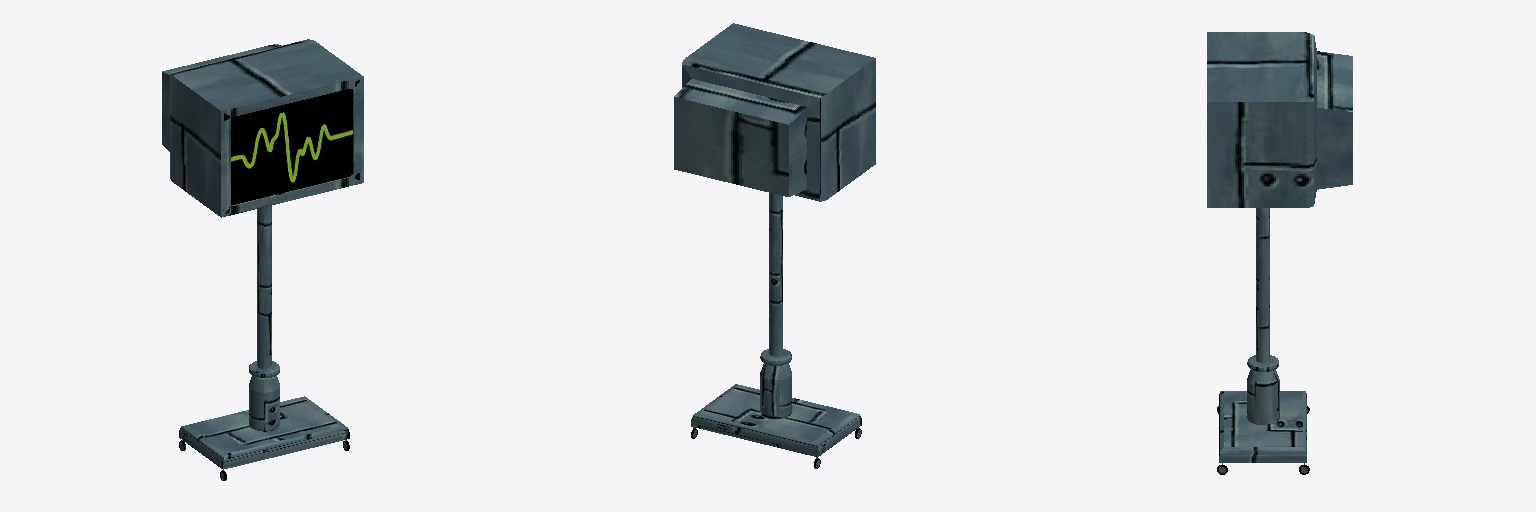
3 views of the same model, side by side, from view 1: azimuth 30°, elevation 25°; view 2: azimuth 150°, elevation 25°; view 3: azimuth 270°, elevation 25° (orthographic).
Visible parts, largest first — view 1: Cube.001_Cube.002; view 2: Cube.001_Cube.002; view 3: Cube.001_Cube.002.
Part boxes in pixels (bbox=[...]): Cube.001_Cube.002: bbox=[162, 39, 363, 480]; Cube.001_Cube.002: bbox=[674, 23, 875, 468]; Cube.001_Cube.002: bbox=[1207, 32, 1352, 474].
Bounding box in the file's own units: 2.86 × 7.23 × 2.53.
Materials: 8 (2 with a texture image).